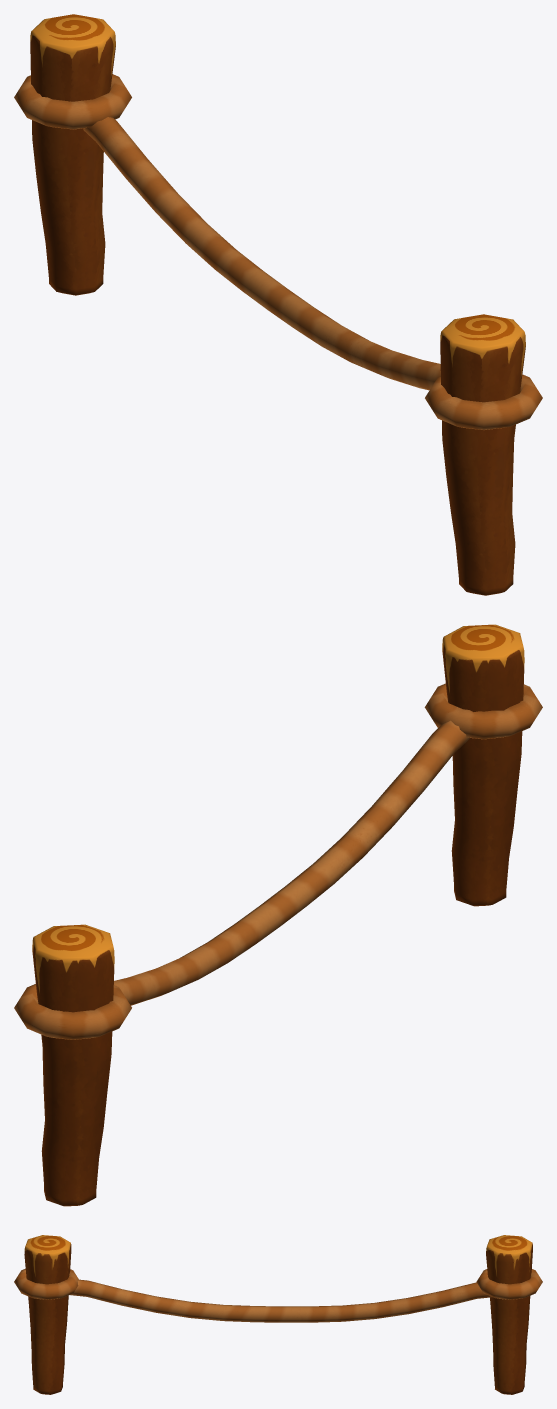
Rendered from campfence.fbx.
3 renders of one model, top to bottom at view 1: azimuth 30°, elevation 25°; view 2: azimuth 150°, elevation 25°; view 3: azimuth 270°, elevation 25°, orthographic. The views are drawn at different scales.
Visible parts, largest first — view 1: log.020, log.019, BezierCurve.002, Torus.060, Torus; view 2: log.019, log.020, BezierCurve.002, Torus, Torus.060; view 3: BezierCurve.002, log.020, log.019, Torus, Torus.060.
Boxes of the visible parts, bbox=[...] form: log.020: bbox=[440, 314, 525, 595]; log.019: bbox=[30, 14, 115, 295]; BezierCurve.002: bbox=[83, 117, 440, 390]; Torus.060: bbox=[425, 374, 542, 429]; Torus: bbox=[14, 74, 131, 129]; log.019: bbox=[32, 924, 114, 1206]; log.020: bbox=[442, 624, 524, 906]; BezierCurve.002: bbox=[114, 720, 469, 1005]; Torus: bbox=[14, 984, 131, 1039]; Torus.060: bbox=[424, 683, 542, 739]; BezierCurve.002: bbox=[70, 1279, 491, 1322]; log.020: bbox=[24, 1235, 71, 1394]; log.019: bbox=[486, 1235, 532, 1394]; Torus: bbox=[476, 1269, 542, 1299]; Torus.060: bbox=[14, 1268, 78, 1299].
Size of the model in its own units: 168 by 411 by 1332.
